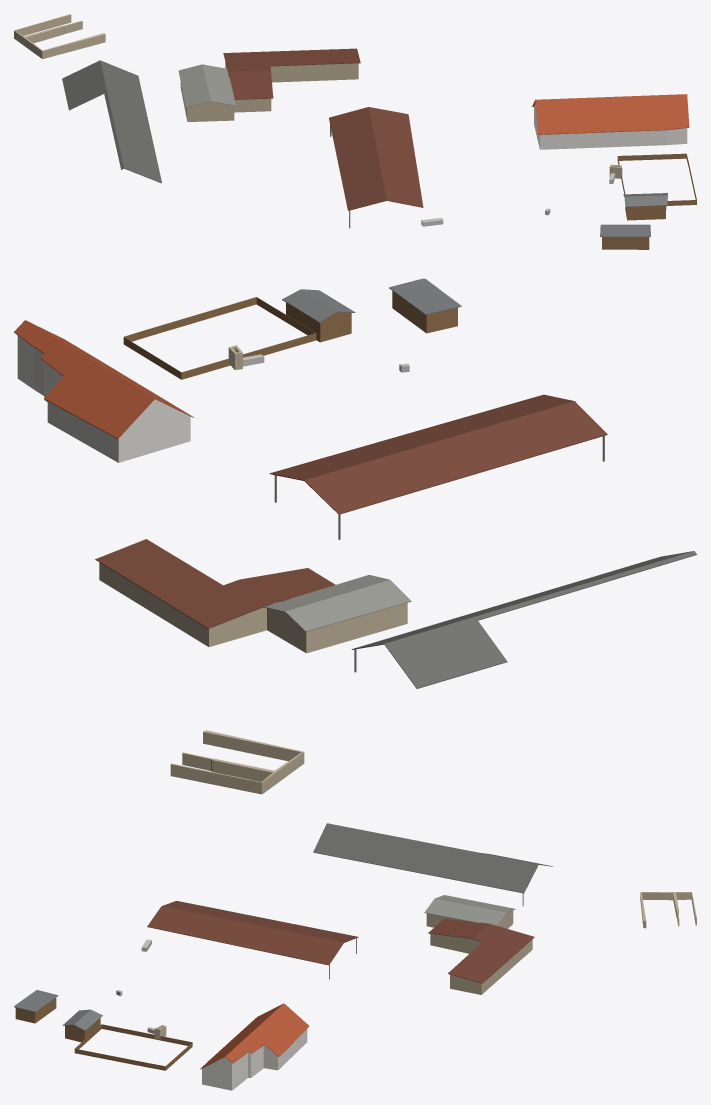
File: contexte.glb
3 views of the same model, one above another, from view 1: azimuth 30°, elevation 25°; view 2: azimuth 150°, elevation 25°; view 3: azimuth 270°, elevation 25° (orthographic). The views are drawn at different scales.
Visible parts, largest first — view 1: SITE_batiment_bat4_hangar_0_toit, SITE_batiment_bat1_0_toit, SITE_batiment_bat5_0_toit, SITE_batiment_bat3_0_toit, SITE_batiment_bat5_0_murs, SITE_batiment_bat3_0_murs, SITE_batiment_bat2_0_toit, SITE_batiment_bat6_0_murs, SITE_batiment_bat2_0_murs, SITE_batiment_potager_0_cloture, SITE_batiment_poulailler_2_0_toit, SITE_batiment_poulailler_2_0_murs (+2 smaller); view 2: SITE_batiment_bat4_hangar_0_toit, SITE_batiment_bat3_0_toit, SITE_batiment_bat1_0_toit, SITE_batiment_bat5_0_toit, SITE_batiment_bat5_0_murs, SITE_batiment_bat6_0_murs, SITE_batiment_bat2_0_toit, SITE_batiment_bat3_0_murs, SITE_batiment_bat2_0_murs, SITE_batiment_potager_0_cloture, SITE_batiment_poulailler_2_0_toit, SITE_batiment_poulailler_1_0_toit (+2 smaller); view 3: SITE_batiment_bat1_0_toit, SITE_batiment_bat4_hangar_0_toit, SITE_batiment_bat3_0_toit, SITE_batiment_bat5_0_toit, SITE_batiment_bat5_0_murs, SITE_batiment_bat3_0_murs, SITE_batiment_bat2_0_toit, SITE_batiment_potager_0_cloture, SITE_batiment_bat6_0_murs, SITE_batiment_poulailler_2_0_toit, SITE_batiment_poulailler_1_0_toit, SITE_batiment_poulailler_2_0_murs (+1 smaller).
Part boxes in pixels (x1,y1,x2,y2): SITE_batiment_bat4_hangar_0_toit: (329, 107, 423, 210); SITE_batiment_bat1_0_toit: (62, 60, 161, 183); SITE_batiment_bat5_0_toit: (532, 94, 689, 134); SITE_batiment_bat3_0_toit: (223, 48, 360, 99); SITE_batiment_bat5_0_murs: (534, 104, 687, 149); SITE_batiment_bat3_0_murs: (225, 62, 358, 112); SITE_batiment_bat2_0_toit: (178, 64, 235, 107); SITE_batiment_bat6_0_murs: (14, 14, 105, 59); SITE_batiment_bat2_0_murs: (180, 83, 234, 121); SITE_batiment_potager_0_cloture: (617, 153, 696, 205); SITE_batiment_poulailler_2_0_toit: (600, 224, 650, 237); SITE_batiment_poulailler_2_0_murs: (602, 237, 649, 249); SITE_batiment_bat4_hangar_0_toit: (269, 394, 607, 514); SITE_batiment_bat3_0_toit: (95, 539, 335, 628); SITE_batiment_bat1_0_toit: (351, 551, 696, 688); SITE_batiment_bat5_0_toit: (14, 320, 194, 438); SITE_batiment_bat5_0_murs: (17, 335, 190, 462); SITE_batiment_bat6_0_murs: (170, 730, 304, 794); SITE_batiment_bat2_0_toit: (263, 575, 411, 631); SITE_batiment_bat3_0_murs: (99, 562, 278, 646); SITE_batiment_bat2_0_murs: (267, 603, 407, 653); SITE_batiment_potager_0_cloture: (123, 297, 316, 379); SITE_batiment_poulailler_2_0_toit: (389, 278, 461, 314); SITE_batiment_poulailler_1_0_toit: (282, 289, 355, 322); SITE_batiment_bat1_0_toit: (313, 823, 552, 893); SITE_batiment_bat4_hangar_0_toit: (147, 900, 358, 965); SITE_batiment_bat3_0_toit: (428, 918, 534, 983); SITE_batiment_bat5_0_toit: (200, 1003, 309, 1069); SITE_batiment_bat5_0_murs: (202, 1029, 307, 1090); SITE_batiment_bat3_0_murs: (430, 933, 532, 994); SITE_batiment_bat2_0_toit: (424, 895, 515, 925); SITE_batiment_potager_0_cloture: (74, 1024, 192, 1070); SITE_batiment_bat6_0_murs: (640, 892, 696, 928); SITE_batiment_poulailler_2_0_toit: (14, 990, 58, 1012); SITE_batiment_poulailler_1_0_toit: (62, 1009, 102, 1031); SITE_batiment_poulailler_2_0_murs: (15, 998, 56, 1023).
Size of the model in its own units: 130 by 11.16 by 165.
